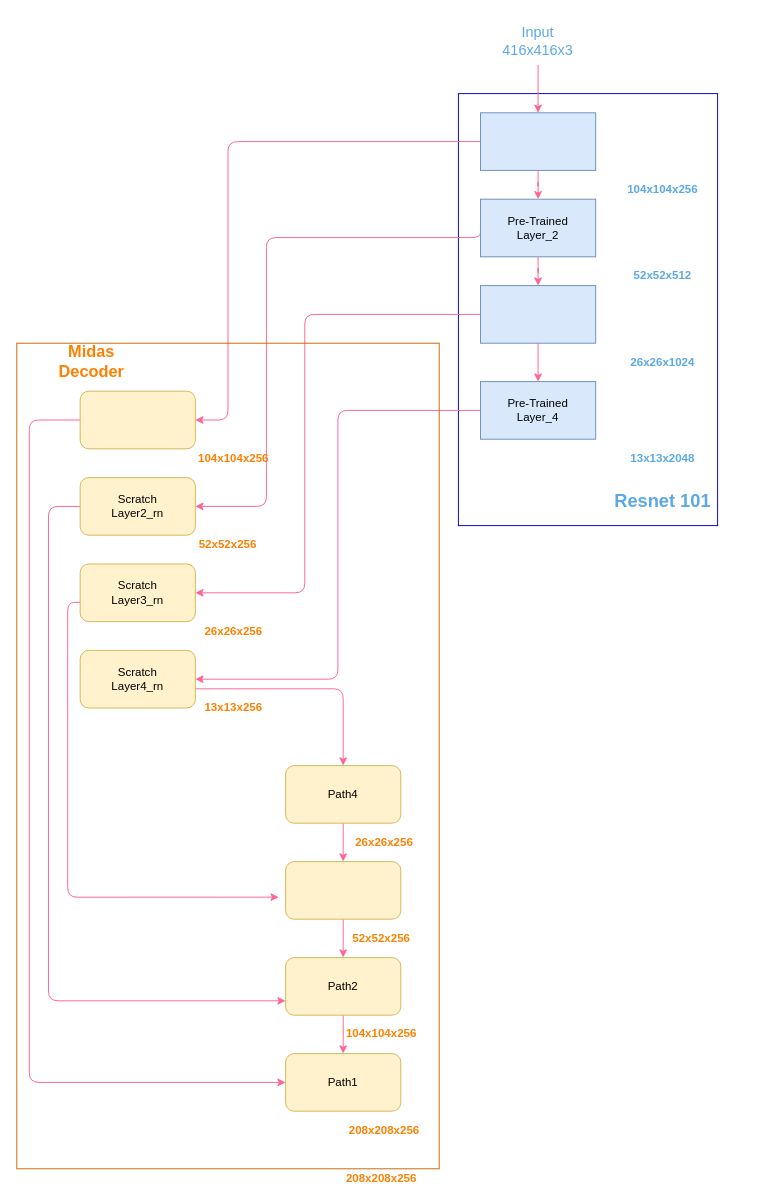
Image size: 766x1204. Some labels were removed from this diagram. The shapes that lost their labels are listed below. From the top down, each one's centre as x and y in pixels, then its label:
point (538, 141): Pre-Trained Layer_1
point (538, 314): Pre-Trained Layer_3
point (137, 419): Scratch Layer1_rn
point (343, 890): Path3
